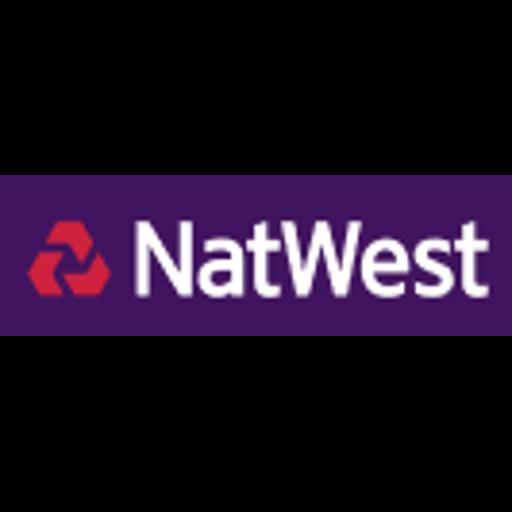NatWest Personal Banking: (0, 175, 512, 336)
